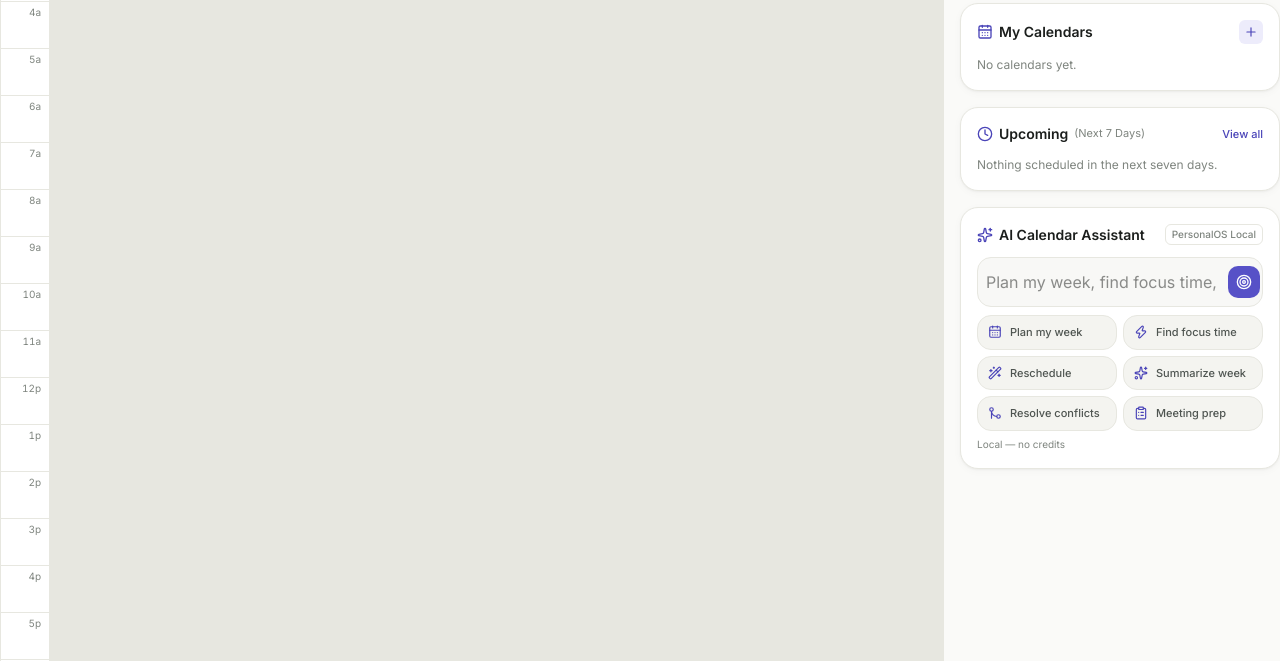
Test: AI calendar assistant › plans the week from real numbers
The width and height of the screenshot is (1280, 661).
(page scrolled)
Click the button with test id "calendar-assistant-plan". click: (1047, 332)
box: left=977, top=315, right=1117, bottom=350
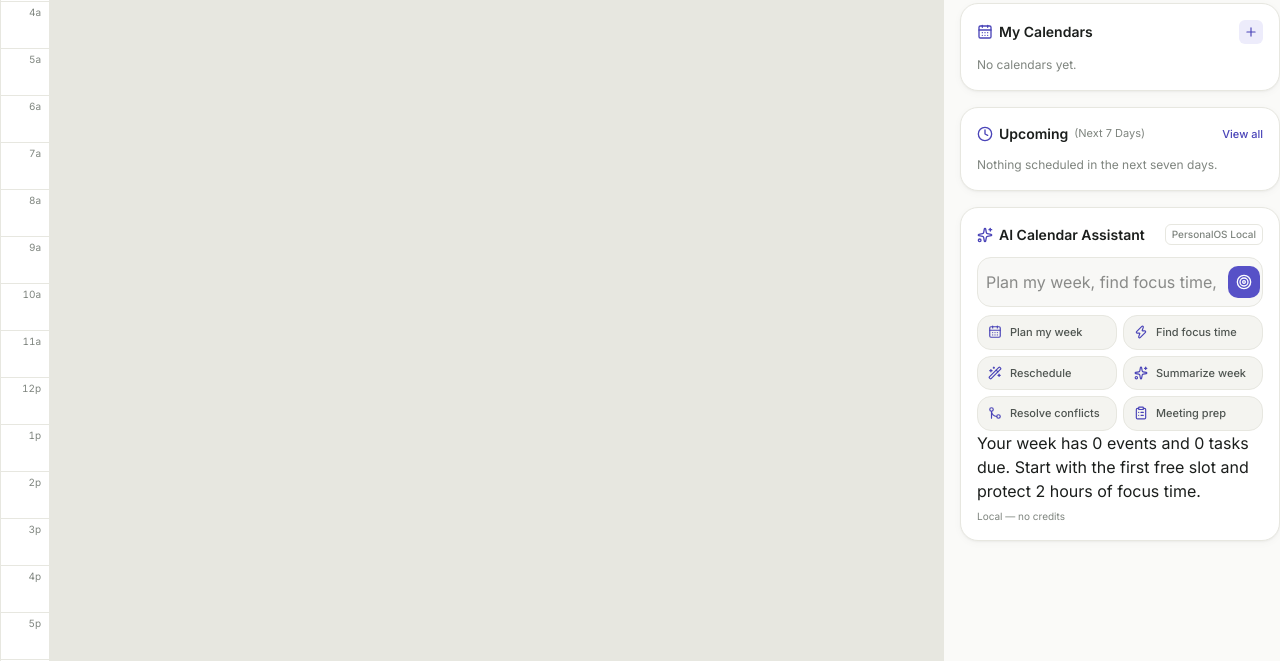
Expected: the element with test id "calendar-assistant-answer" shows "events", left=977, top=432, right=1253, bottom=500
